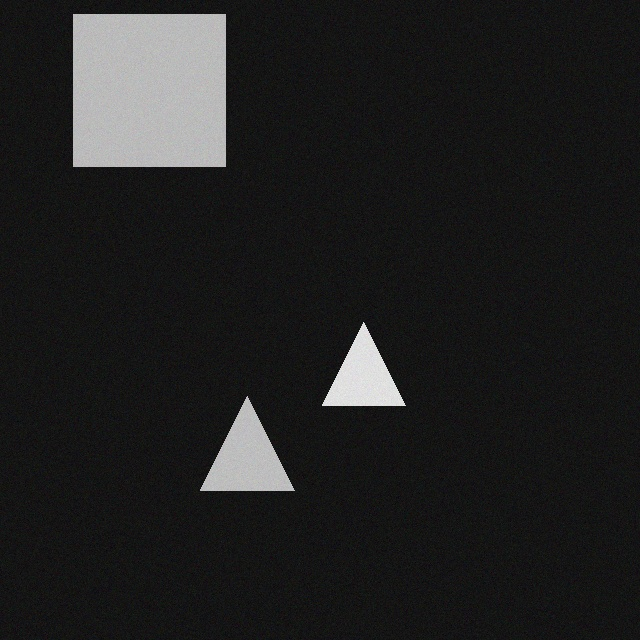square: (85, 22, 237, 174)
triangle: (212, 404, 306, 498), (334, 330, 417, 413)
